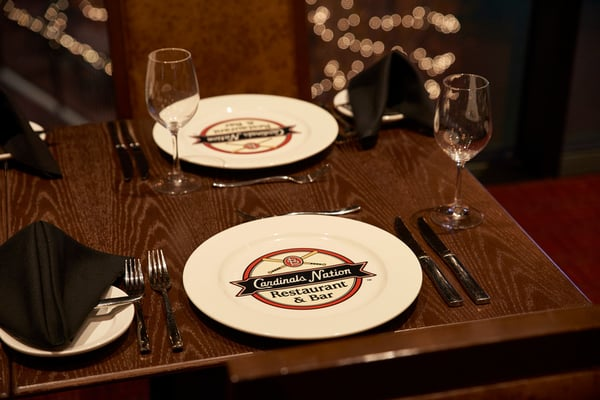burger: (71, 255, 147, 353), (144, 248, 184, 353), (111, 255, 146, 355), (121, 253, 152, 357)
sandwich: (415, 216, 491, 305), (393, 215, 463, 306)
